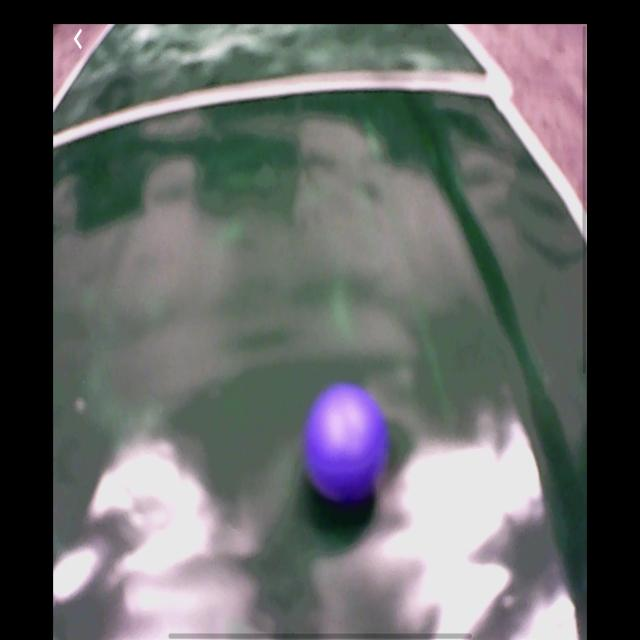ball: (301, 384, 389, 509)
